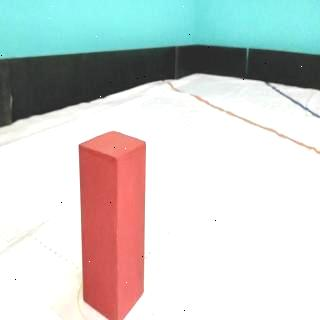redbox: (79, 128, 147, 320)
